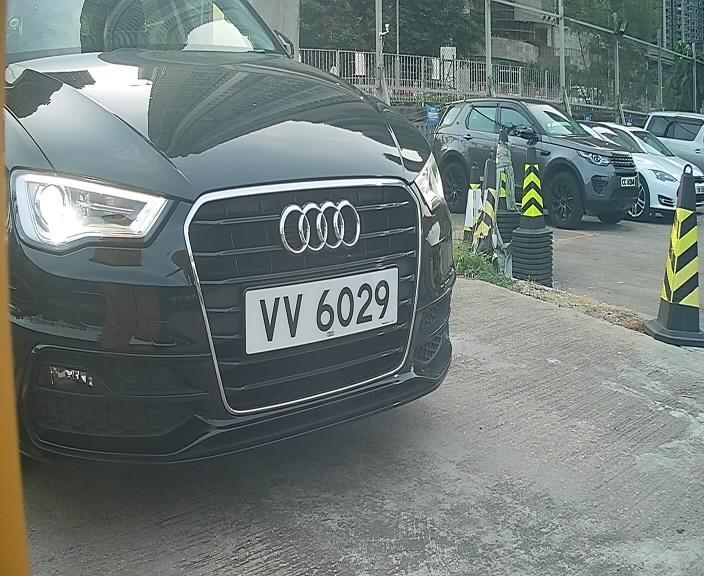privatecar: (1, 16, 488, 463)
